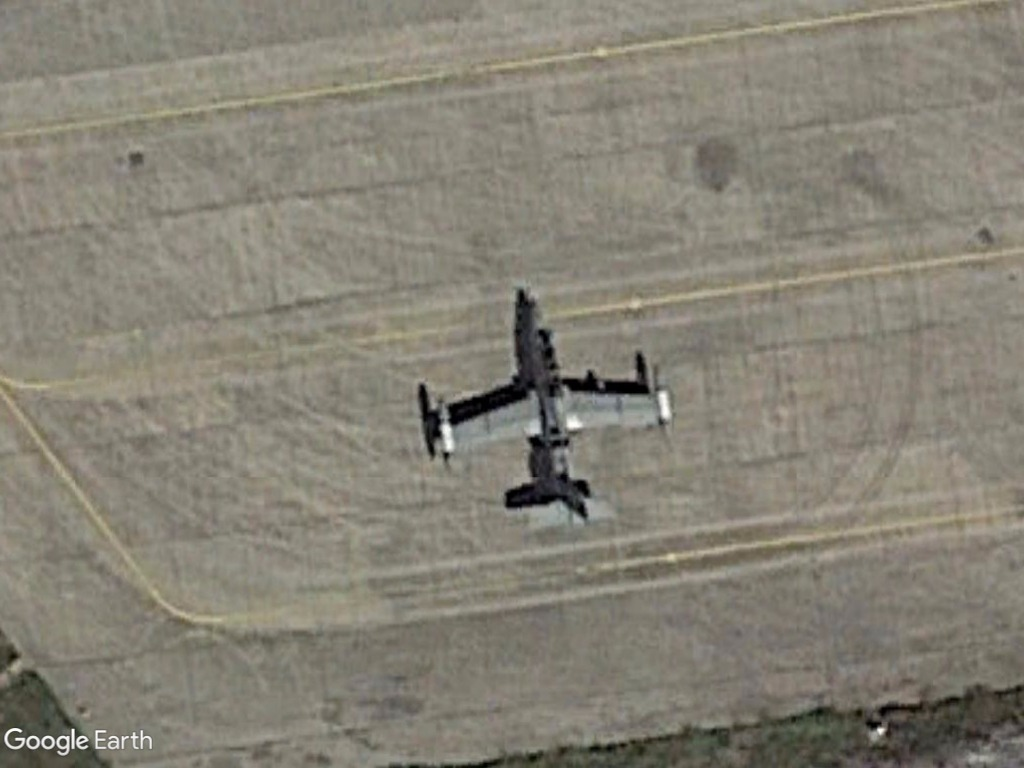trainer: (422, 293, 687, 546)
